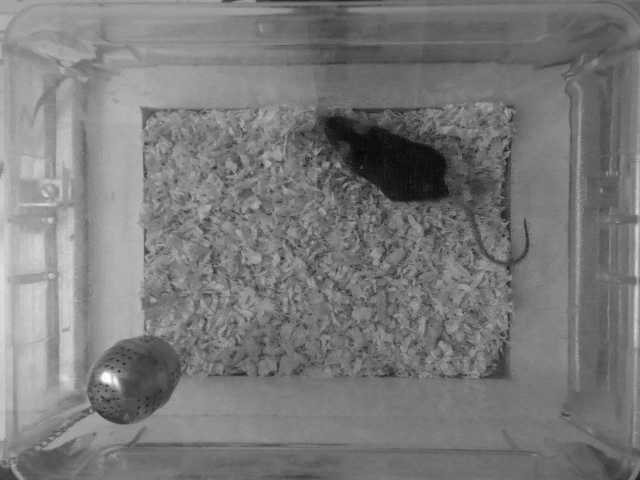mice: (312, 108, 535, 270)
